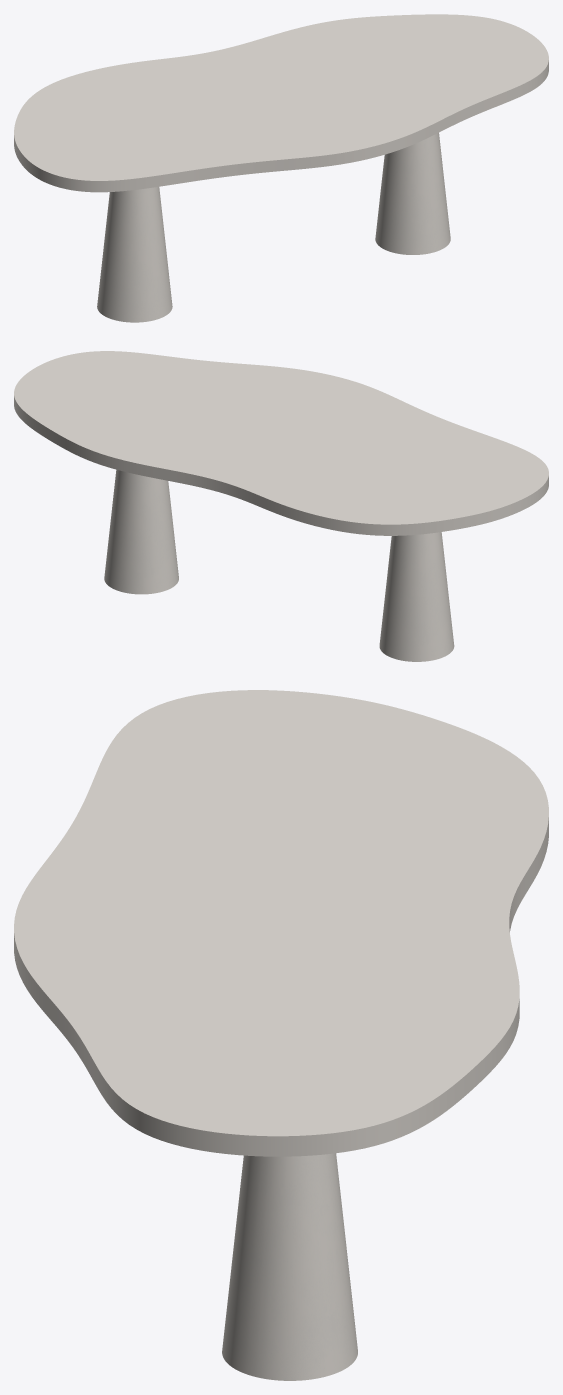
File: pearlwhite_toplast_standard_pebble.glb
3 views of the same model, one above another, from view 1: azimuth 30°, elevation 25°; view 2: azimuth 150°, elevation 25°; view 3: azimuth 270°, elevation 25° (orthographic). The views are drawn at different scales.
Visible parts, largest first — view 1: standard_toplast, pebble; view 2: standard_toplast, pebble; view 3: standard_toplast, pebble.
Boxes of the visible parts, box(x1,y1,x2,y2) form: standard_toplast: box(14, 14, 548, 192); pebble: box(97, 133, 450, 322); standard_toplast: box(14, 351, 548, 535); pebble: box(104, 469, 454, 661); standard_toplast: box(14, 690, 548, 1156); pebble: box(222, 1153, 357, 1380).
Size of the model in its own units: 7.5 by 2.5 by 3.8.
1 material, 1 textured.
